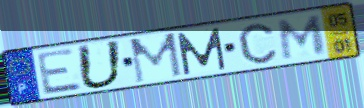C: (236, 22, 279, 66)
E: (34, 46, 85, 97)
M: (127, 31, 184, 86), (174, 26, 229, 77), (277, 13, 328, 62)
U: (75, 39, 126, 91)
